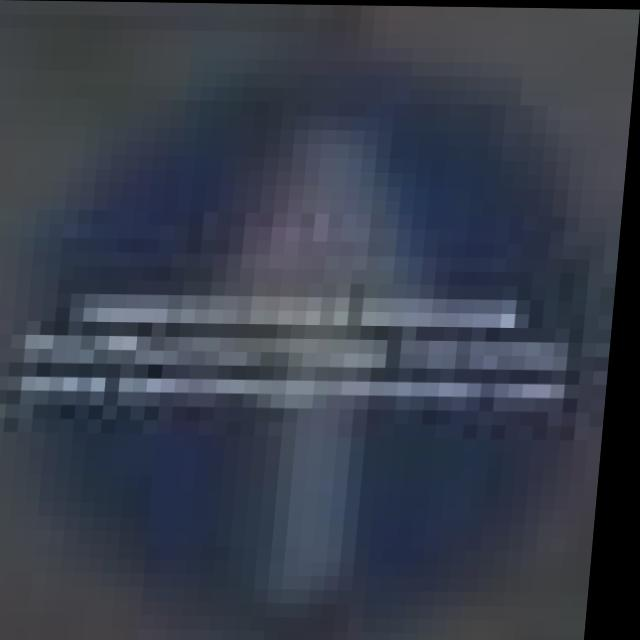COMPULSORY_AHEAD: (0, 71, 591, 628)
